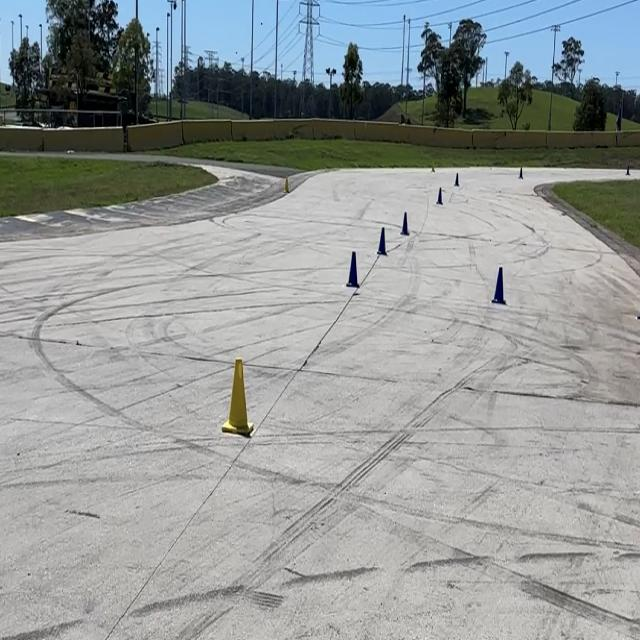blue_cone: (345, 244, 360, 292), (491, 264, 507, 306), (376, 222, 388, 259), (400, 206, 410, 239), (436, 185, 445, 206), (454, 171, 461, 187), (625, 161, 631, 177), (518, 163, 523, 181)
yellow_cone: (219, 348, 259, 437), (282, 174, 291, 194), (430, 157, 437, 176)
